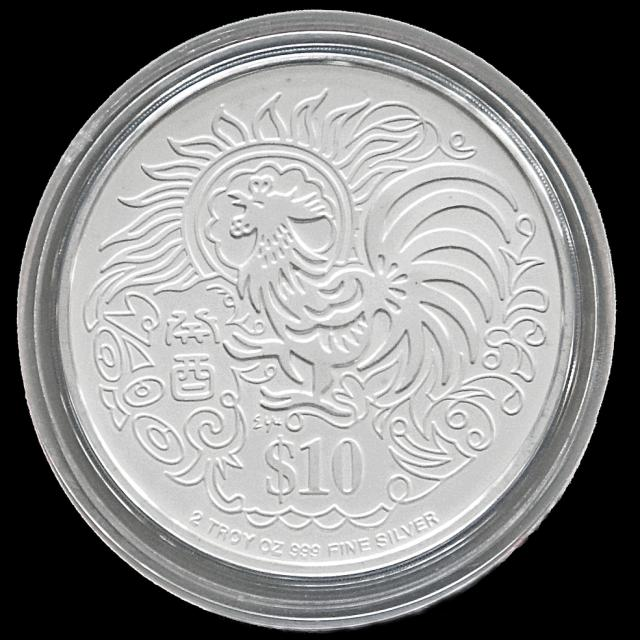Coin: (58, 56, 574, 575)
